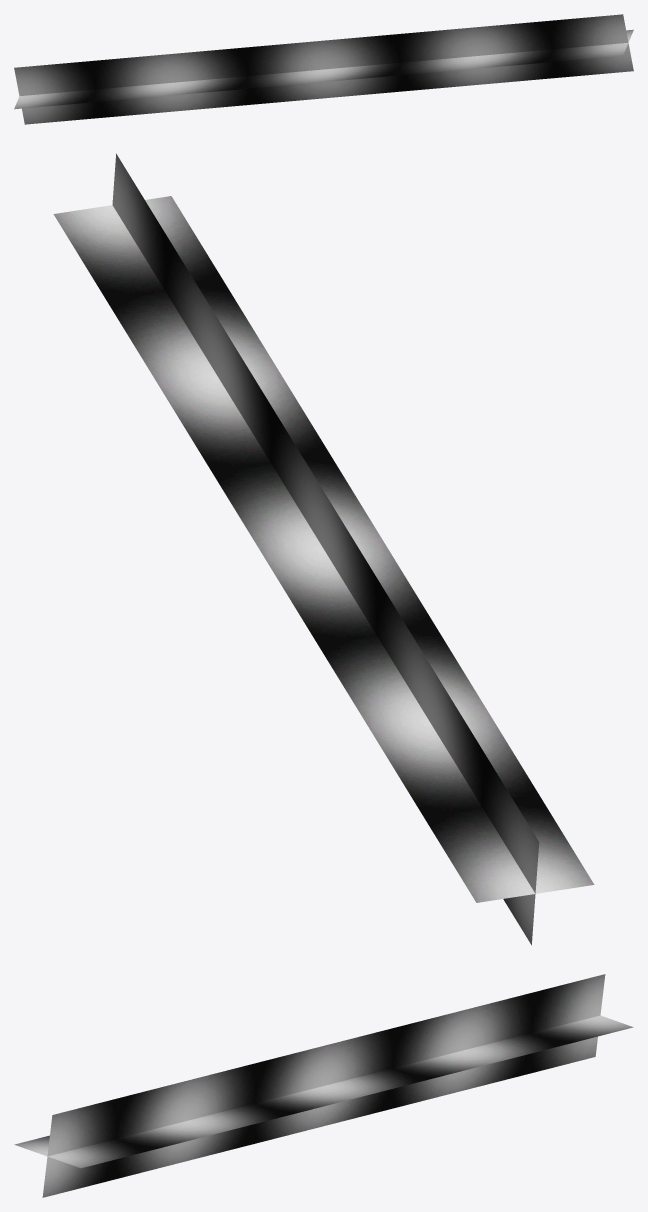
File: vfx_kurp_0765.dae
The picture shows the model from 3 angles, top to bottom: view 1: azimuth 30°, elevation 25°; view 2: azimuth 150°, elevation 25°; view 3: azimuth 270°, elevation 25°; orthographic projection. The views are drawn at different scales.
Visible parts, largest first — view 1: vfx_kurp_0765; view 2: vfx_kurp_0765; view 3: vfx_kurp_0765.
Boxes of the visible parts, box(x1,y1,x2,y2) form: vfx_kurp_0765: box(14, 14, 633, 124); vfx_kurp_0765: box(53, 153, 594, 945); vfx_kurp_0765: box(14, 974, 633, 1197).
Size of the model in its own units: 1.47 by 1.28 by 0.4898.
Materials: 1 (1 with a texture image).
